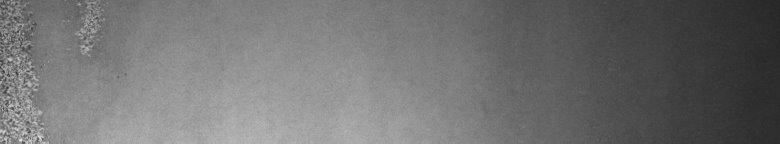hc: (4, 4, 127, 136)
